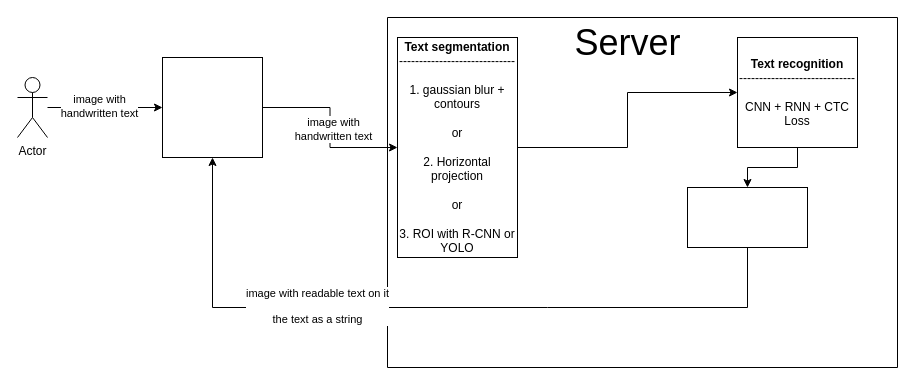
Some shapes in this 915 by 385 pixel diagram are drawn without their labels. The shapes that lost their labels are listed below. From the top down, each one's centre as x and y in pixels, then its label:
the point at 212,107: Mobile App ------------------------ a simple React Native app compiled with expo
the point at 747,217: post processing
